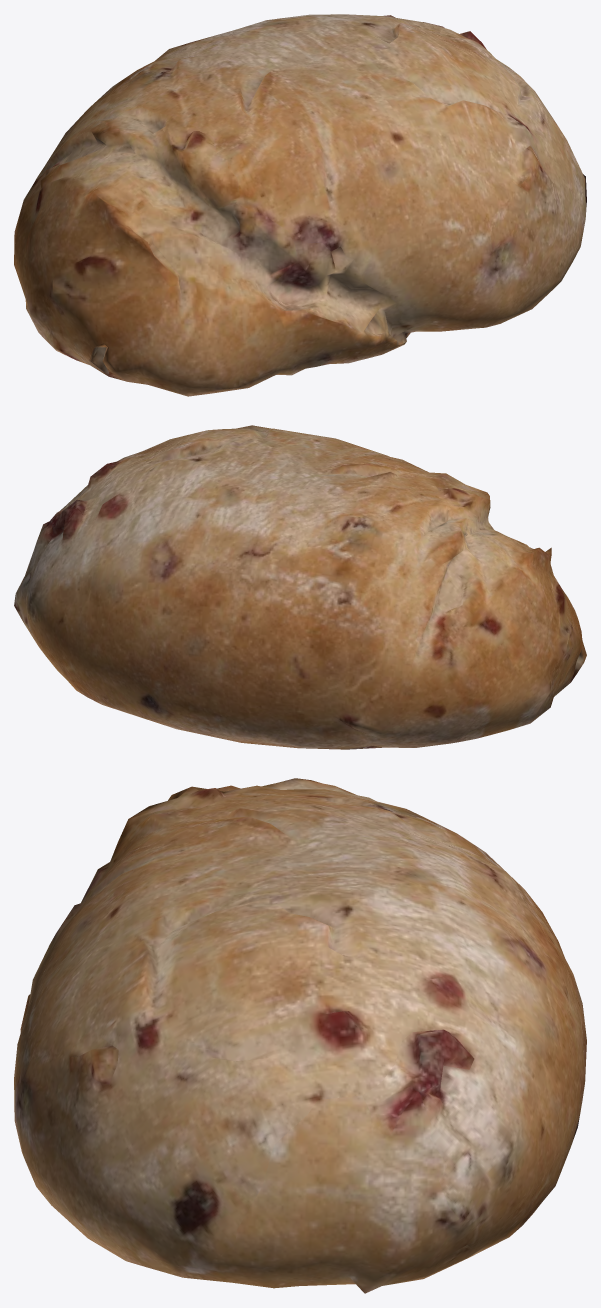
The model's file is bun.glb.
3 renders of one model, top to bottom at view 1: azimuth 30°, elevation 25°; view 2: azimuth 150°, elevation 25°; view 3: azimuth 270°, elevation 25°, orthographic. The views are drawn at different scales.
Visible parts, largest first — view 1: whpmact_LOD0_TIER2_000; view 2: whpmact_LOD0_TIER2_000; view 3: whpmact_LOD0_TIER2_000.
Part boxes in pixels (x1,y1,x2,y2): whpmact_LOD0_TIER2_000: [14, 14, 586, 396]; whpmact_LOD0_TIER2_000: [14, 425, 586, 749]; whpmact_LOD0_TIER2_000: [14, 778, 586, 1293].
Bounding box in the file's own units: 0.1788 × 0.0762 × 0.1301.
1 material, 1 textured.
